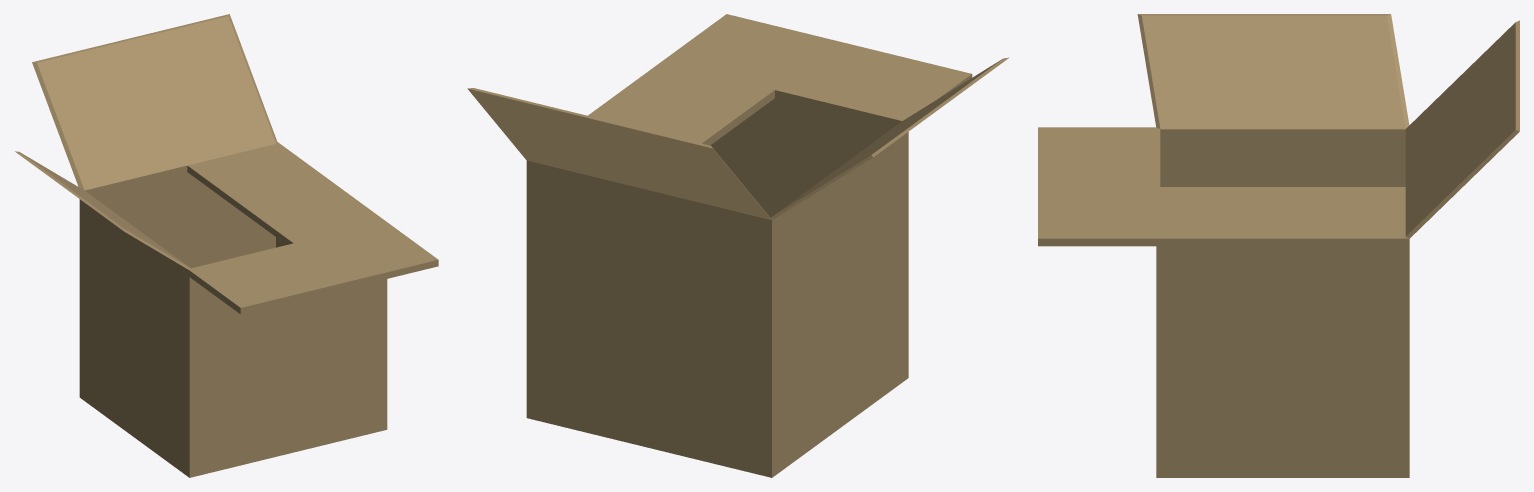
The model's file is boxopen.fbx.
3 views of the same model, side by side, from view 1: azimuth 30°, elevation 25°; view 2: azimuth 150°, elevation 25°; view 3: azimuth 270°, elevation 25° (orthographic). The views are drawn at different scales.
Parts seen in each view (by area): view 1: pCube1; view 2: pCube1; view 3: pCube1.
Boxes of the visible parts, <box> form: pCube1: <box>15,14,438,477</box>; pCube1: <box>467,14,1008,477</box>; pCube1: <box>1038,14,1519,477</box>.
Bounding box in the file's own units: 8.56 × 9.06 × 11.42.
